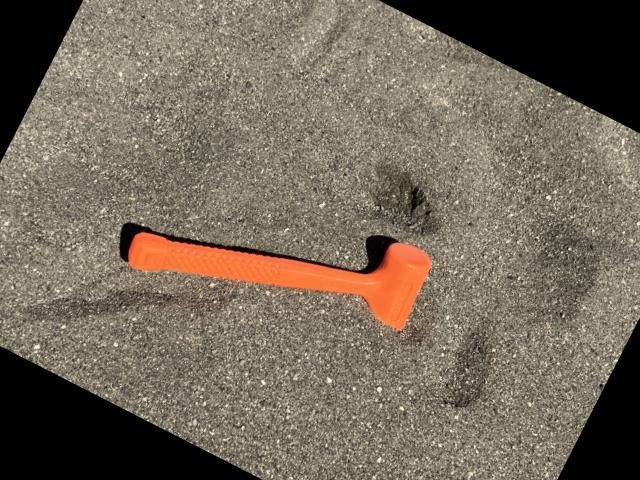hammer: (122, 130, 439, 391)
